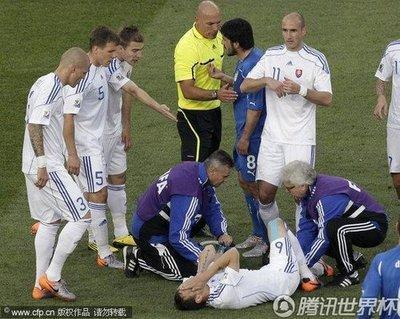Fall-Detected: (167, 210, 317, 314)
